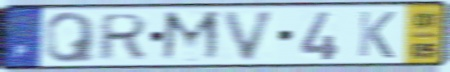4: (296, 8, 342, 62)
K: (355, 9, 398, 60)
M: (158, 9, 223, 64)
Q: (43, 10, 99, 65)
R: (94, 12, 151, 63)
V: (221, 9, 281, 63)
